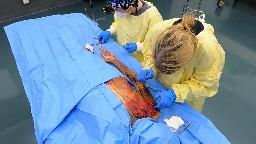scalpel: (145, 72, 149, 93)
